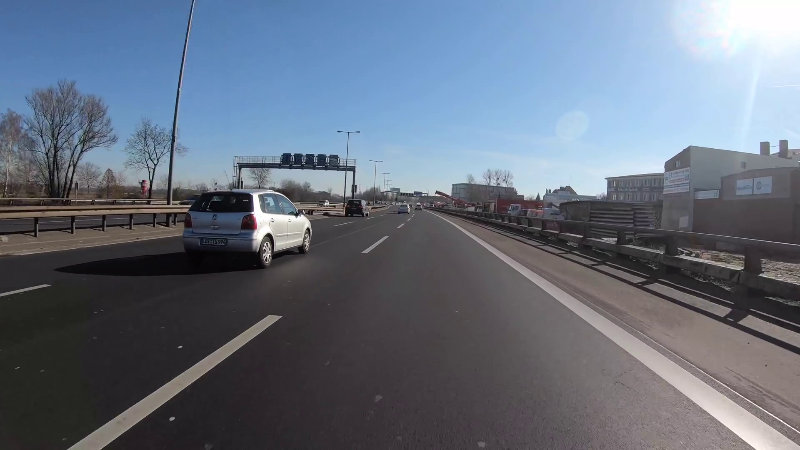Plate: (198, 236, 229, 247)
